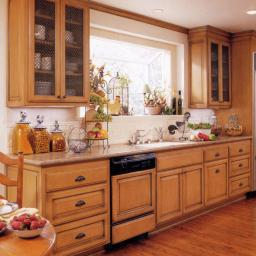Electrodomestico: (110, 158, 156, 236)
Lavaplatos: (127, 126, 176, 152)
